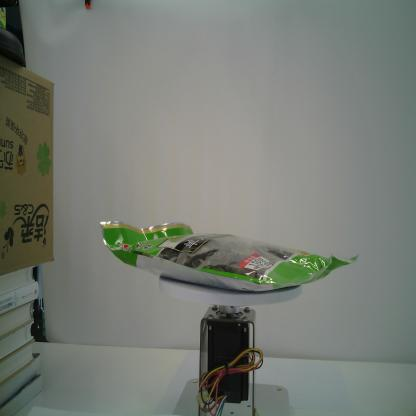Dried Food: (100, 219, 360, 292)
